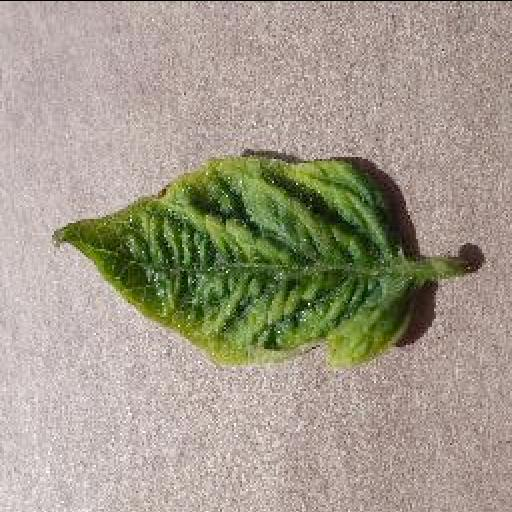disease_tomato: (50, 154, 412, 372)
